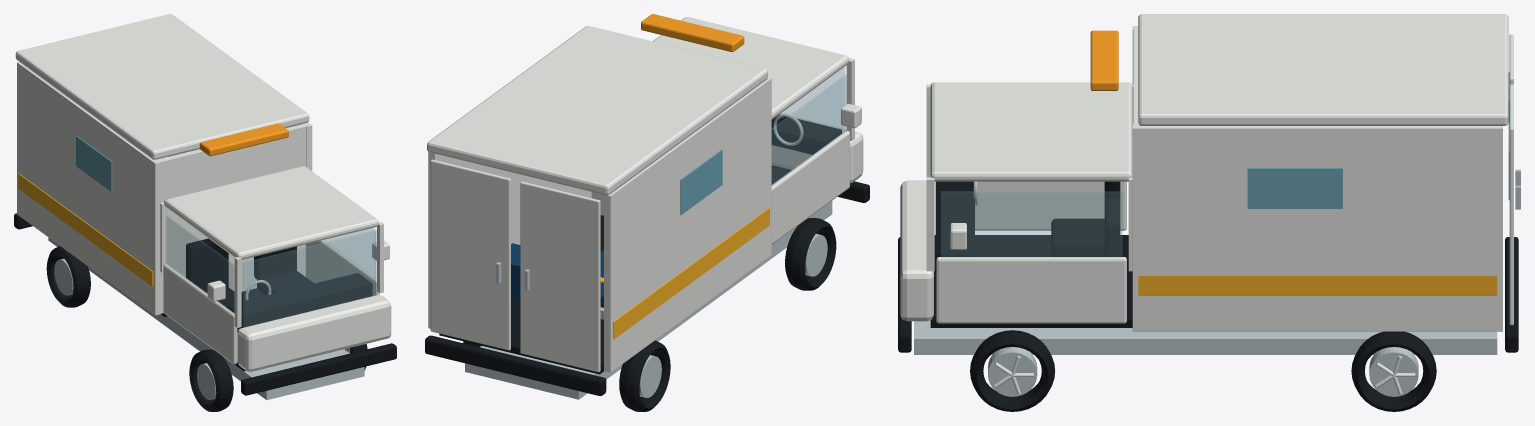
The picture shows the model from 3 angles, left to right: view 1: azimuth 30°, elevation 25°; view 2: azimuth 150°, elevation 25°; view 3: azimuth 270°, elevation 25°; orthographic projection. The views are drawn at different scales.
Parts seen in each view (by area): view 1: PATIENT_Roof, PATIENT_Side, CABIN_Roof, CABIN_Windscreen, PATIENT_Bulkhead, CABIN_Nose, CABIN_Door.001, INTERIOR_Dashboard, CABIN_SideGlass.001, CHASSIS, BUMPER.001, PATIENT_Stripe (+16 smaller); view 2: PATIENT_Roof, PATIENT_Side, REAR_DoorLeaf, REAR_DoorLeaf.001, CABIN_Roof, CABIN_Door.001, CABIN_SideGlass.001, BUMPER, PATIENT_Stripe, CHASSIS, PATIENT_Side.001, TYRE (+13 smaller); view 3: PATIENT_Side.001, PATIENT_Roof, CABIN_Roof, CABIN_Door, CHASSIS, CABIN_SideGlass, PATIENT_Stripe.001, CABIN_Door.001, CABIN_Nose, PATIENT_Window.001, CABIN_Floor, TYRE.002 (+12 smaller).
Part boxes in pixels (<box>): PATIENT_Roof: <box>15,14,309,159</box>; PATIENT_Side: <box>17,62,160,315</box>; CABIN_Roof: <box>164,166,378,259</box>; CABIN_Windscreen: <box>243,230,375,327</box>; PATIENT_Bulkhead: <box>157,123,307,313</box>; CABIN_Nose: <box>237,295,391,371</box>; CABIN_Door.001: <box>163,264,237,364</box>; INTERIOR_Dashboard: <box>227,273,372,327</box>; CABIN_SideGlass.001: <box>166,216,234,313</box>; CHASSIS: <box>48,237,364,400</box>; BUMPER.001: <box>241,343,396,395</box>; PATIENT_Stripe: <box>18,173,153,286</box>; PATIENT_Roof: <box>427,26,767,195</box>; PATIENT_Side: <box>604,77,771,372</box>; REAR_DoorLeaf: <box>520,181,600,372</box>; REAR_DoorLeaf.001: <box>430,159,510,350</box>; CABIN_Roof: <box>652,17,848,119</box>; CABIN_Door.001: <box>771,131,849,244</box>; CABIN_SideGlass.001: <box>772,74,846,186</box>; BUMPER: <box>425,335,606,395</box>; PATIENT_Stripe: <box>613,207,769,339</box>; CHASSIS: <box>465,201,832,399</box>; PATIENT_Side.001: <box>428,152,591,328</box>; TYRE: <box>785,218,836,290</box>; PATIENT_Side.001: <box>1132,124,1502,331</box>; PATIENT_Roof: <box>1138,14,1508,125</box>; CABIN_Roof: <box>930,82,1132,181</box>; CABIN_Door: <box>936,257,1126,323</box>; CHASSIS: <box>914,320,1497,354</box>; CABIN_SideGlass: <box>941,191,1122,257</box>; PATIENT_Stripe.001: <box>1138,275,1497,295</box>; CABIN_Door.001: <box>975,181,1126,230</box>; CABIN_Nose: <box>900,180,933,321</box>; PATIENT_Window.001: <box>1247,168,1342,208</box>; CABIN_Floor: <box>930,235,1132,327</box>; TYRE.002: <box>970,330,1055,411</box>.
Size of the model in its own units: 2.44 by 3.05 by 5.55.
